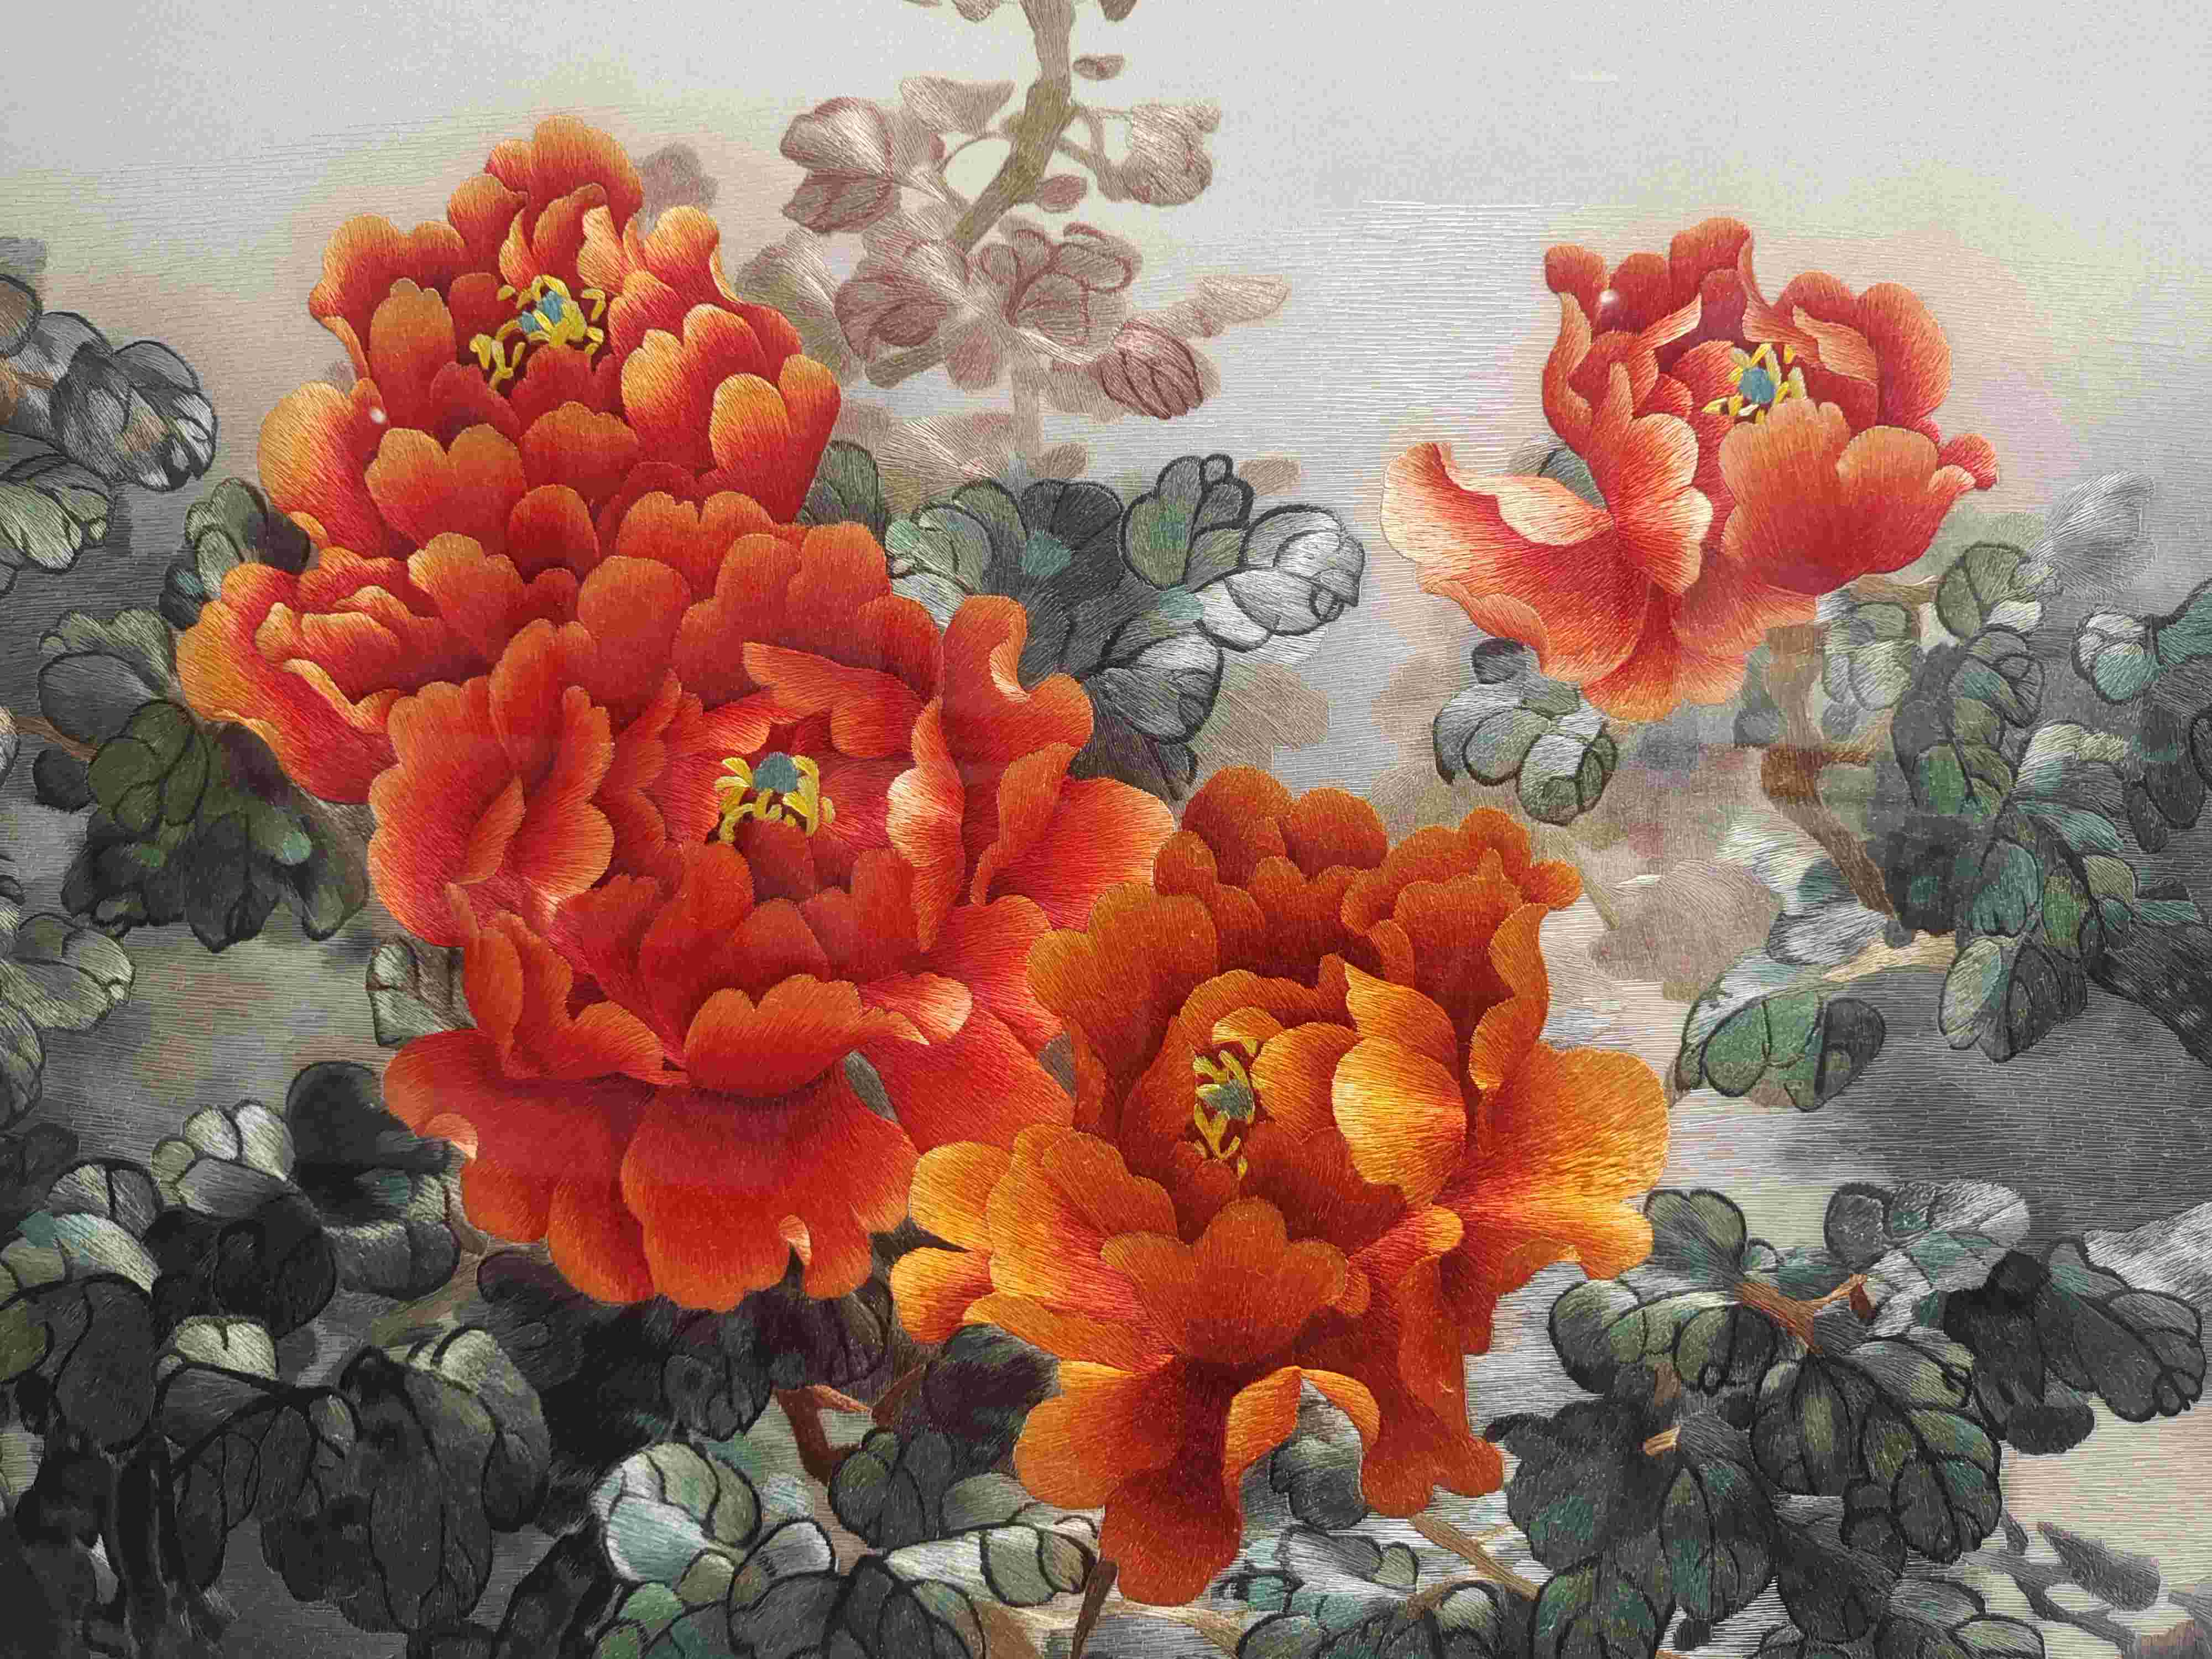flower: (341, 512, 1198, 1309), (874, 765, 1679, 1600), (176, 113, 845, 803), (1367, 216, 2001, 725)
